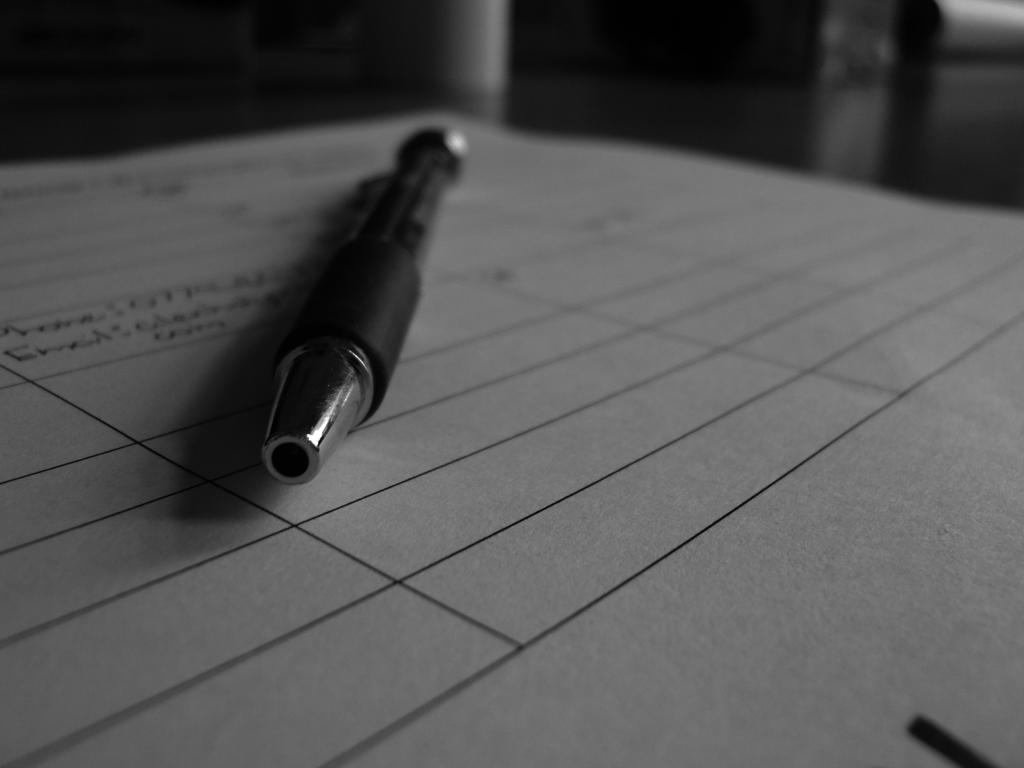pen: (205, 104, 470, 486)
